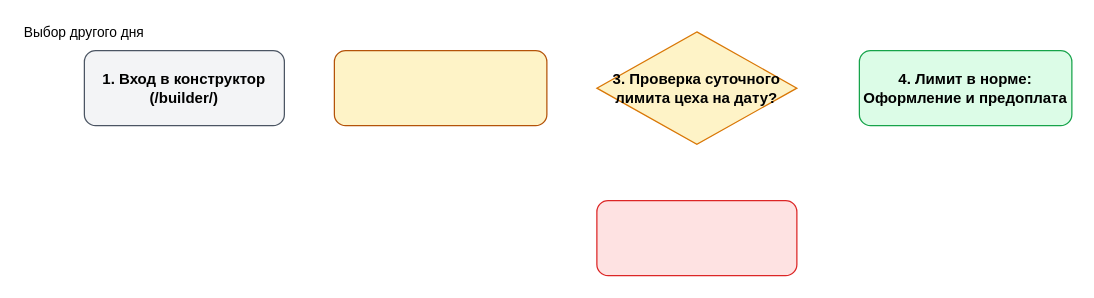
This 1094x298 diagram has some shape labels left out. The centre of each missing label's shape, as x and y in pixels:
"2. Выбор веса, бисквита, начинки и декора" belongs at point (440, 87).
"[ОШИБКА]: Лимит исчерпан! (Блокировка даты в календаре)" belongs at point (696, 237).
